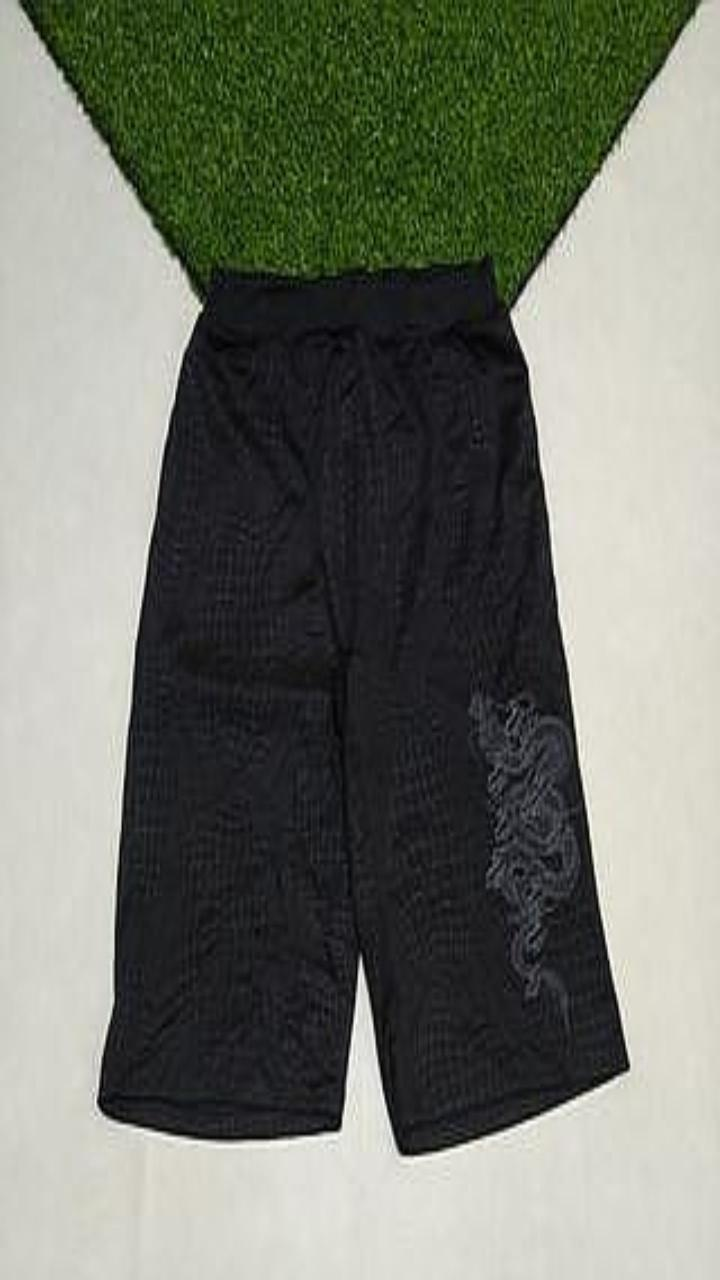Shorts: (98, 257, 628, 1152)
